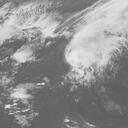cyclone: (63, 30, 111, 75)
